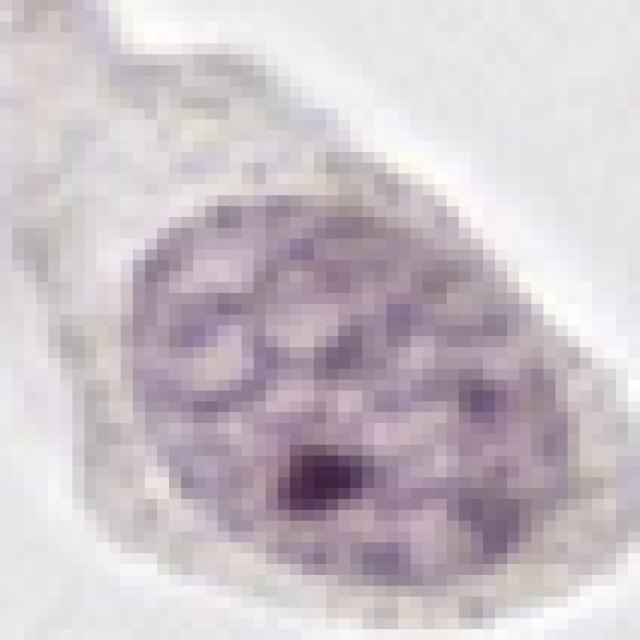nucleus: (30, 108, 640, 640)
